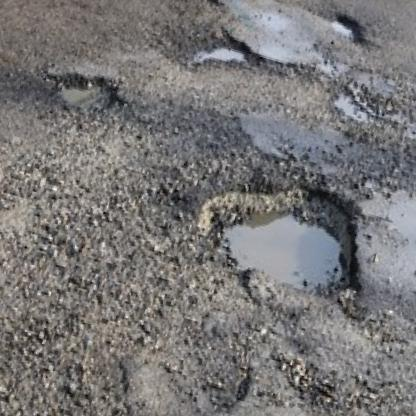pothole: (177, 152, 379, 317), (49, 63, 120, 118), (193, 31, 260, 82), (328, 11, 365, 44)
